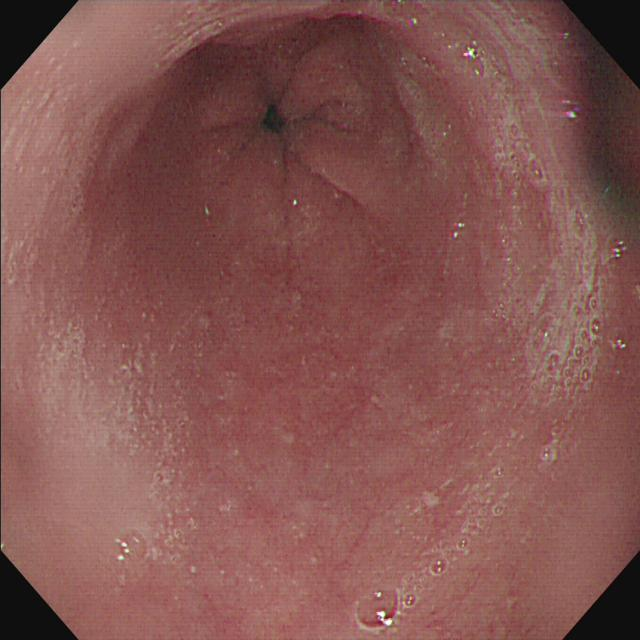E: (263, 105, 287, 133)
I: (192, 32, 391, 259)
T: (478, 56, 608, 405), (357, 466, 507, 635)
